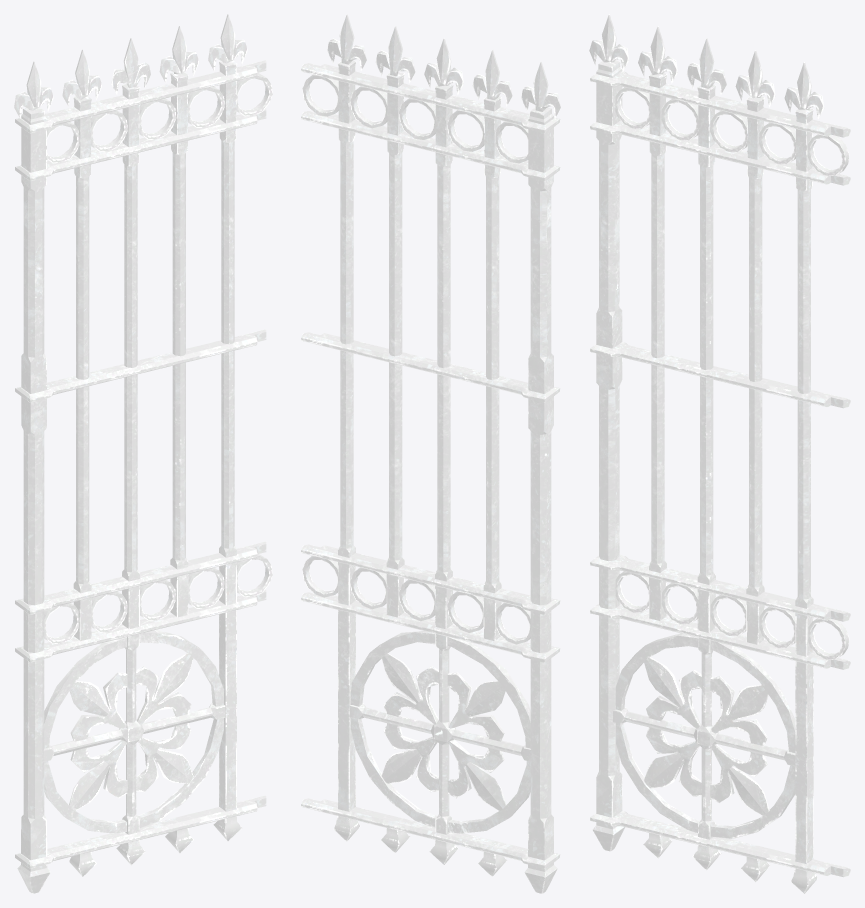
The model's file is SM_Gate_17d.fbx.
The picture shows the model from 3 angles, left to right: view 1: azimuth 30°, elevation 25°; view 2: azimuth 150°, elevation 25°; view 3: azimuth 330°, elevation 25°; orthographic projection.
Visible parts, largest first — view 1: SM_Gate_17d; view 2: SM_Gate_17d; view 3: SM_Gate_17d.
Part boxes in pixels (<box>): SM_Gate_17d: <box>14,14,272,893</box>; SM_Gate_17d: <box>301,14,560,893</box>; SM_Gate_17d: <box>589,14,850,893</box>.
Bounding box in the file's own units: 67.85 × 210 × 7.11.
